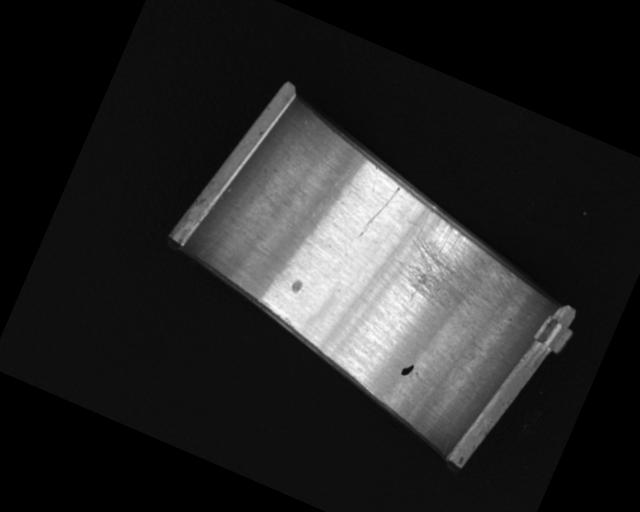blot: (400, 360, 416, 378)
bruise: (289, 278, 304, 294)
nick: (198, 176, 274, 274), (358, 179, 401, 245)
scratch: (384, 202, 528, 333)
